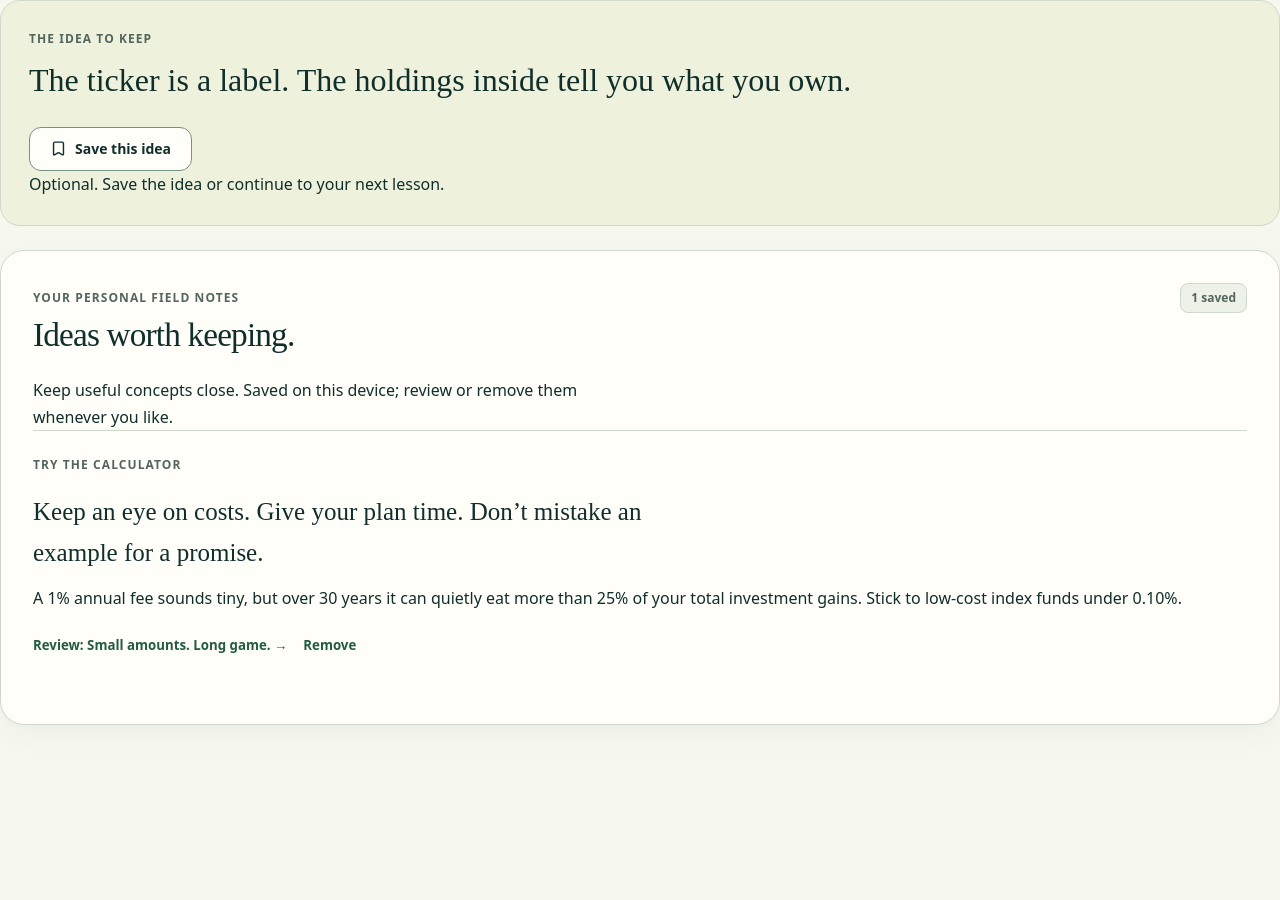
saves a completed takeaway across remounts and removes it
Later steps or results of the test are not shown.
Click the button "Save this idea": click(111, 149) [29, 127, 192, 171]
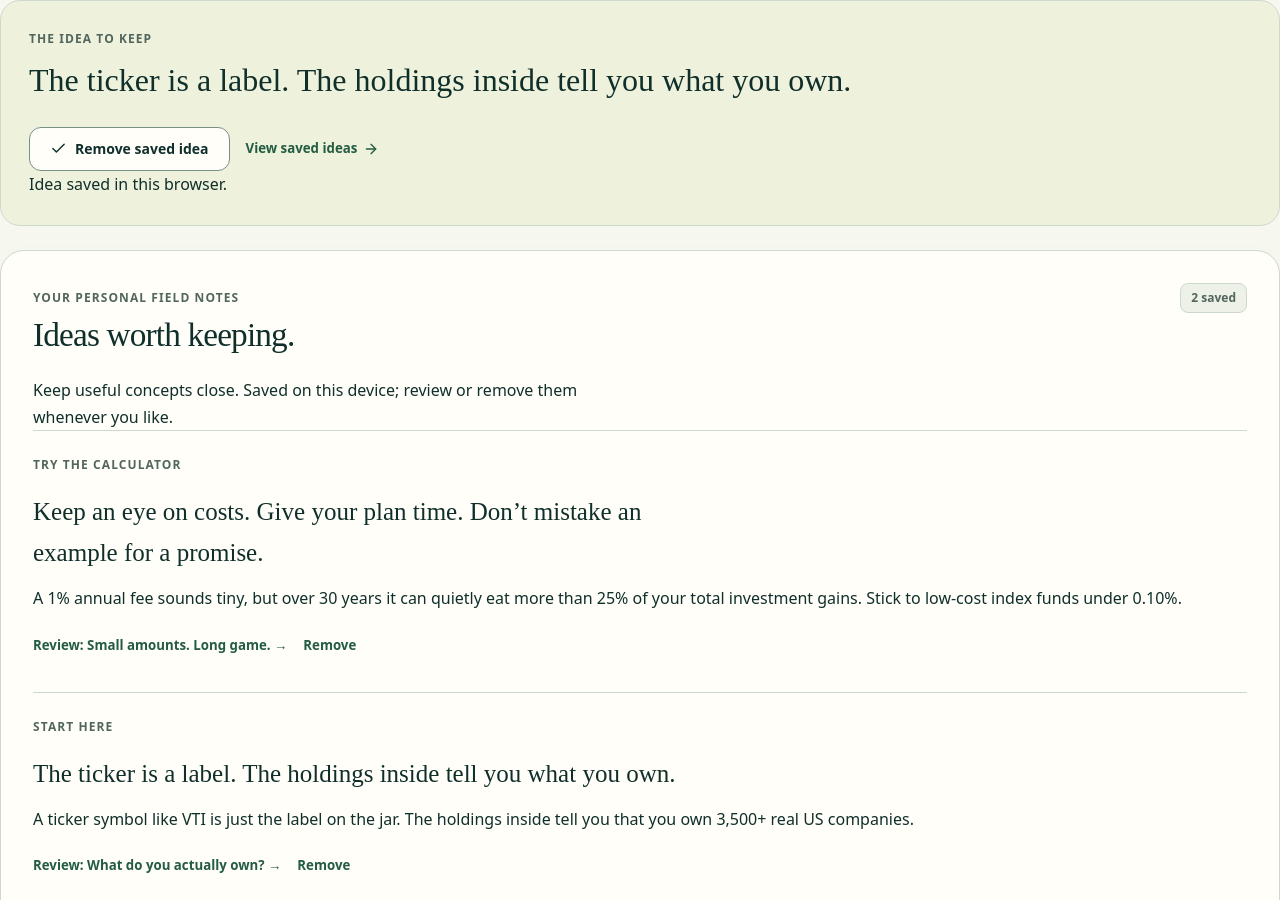
Result: the link "Review: What do you actually own? →" is shown at [33, 856, 281, 874]
